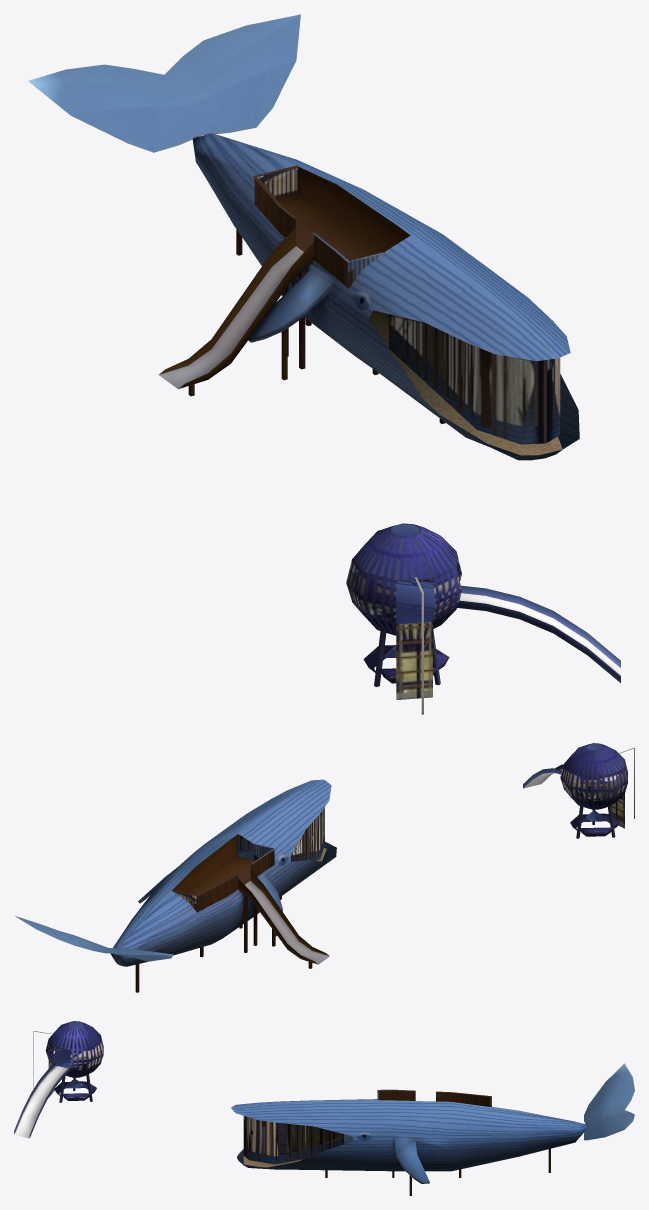
Rendered from Kit.obj.
3 views of the same model, one above another, from view 1: azimuth 30°, elevation 25°; view 2: azimuth 150°, elevation 25°; view 3: azimuth 270°, elevation 25° (orthographic). The views are drawn at different scales.
Visible parts, largest first — view 1: Kit; view 2: Kit; view 3: Kit.
Part boxes in pixels (left/top/right/bottom): Kit: left=28, top=14, right=620, bottom=714; Kit: left=15, top=743, right=634, bottom=992; Kit: left=14, top=1021, right=634, bottom=1195.
Size of the model in its own units: 932 by 275 by 2025.
